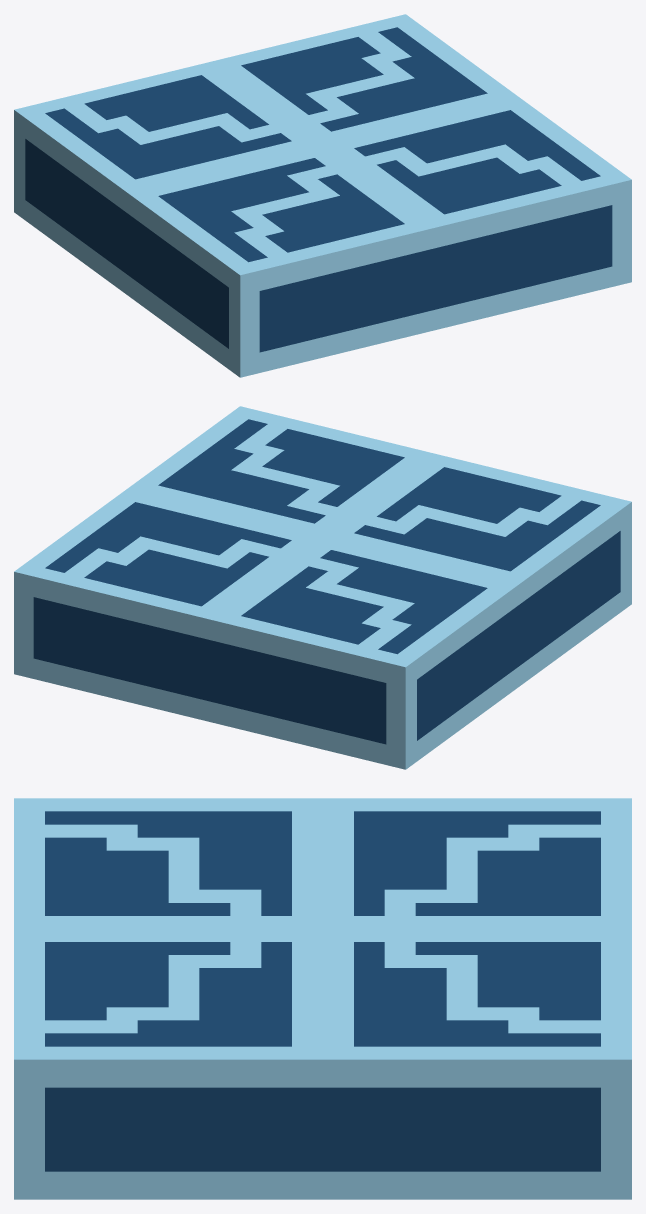
Rendered from Camino_Hielo2.obj.
3 views of the same model, one above another, from view 1: azimuth 30°, elevation 25°; view 2: azimuth 150°, elevation 25°; view 3: azimuth 270°, elevation 25° (orthographic). The views are drawn at different scales.
Size of the model in its own units: 2 by 0.5 by 2.
1 material, 1 textured.
